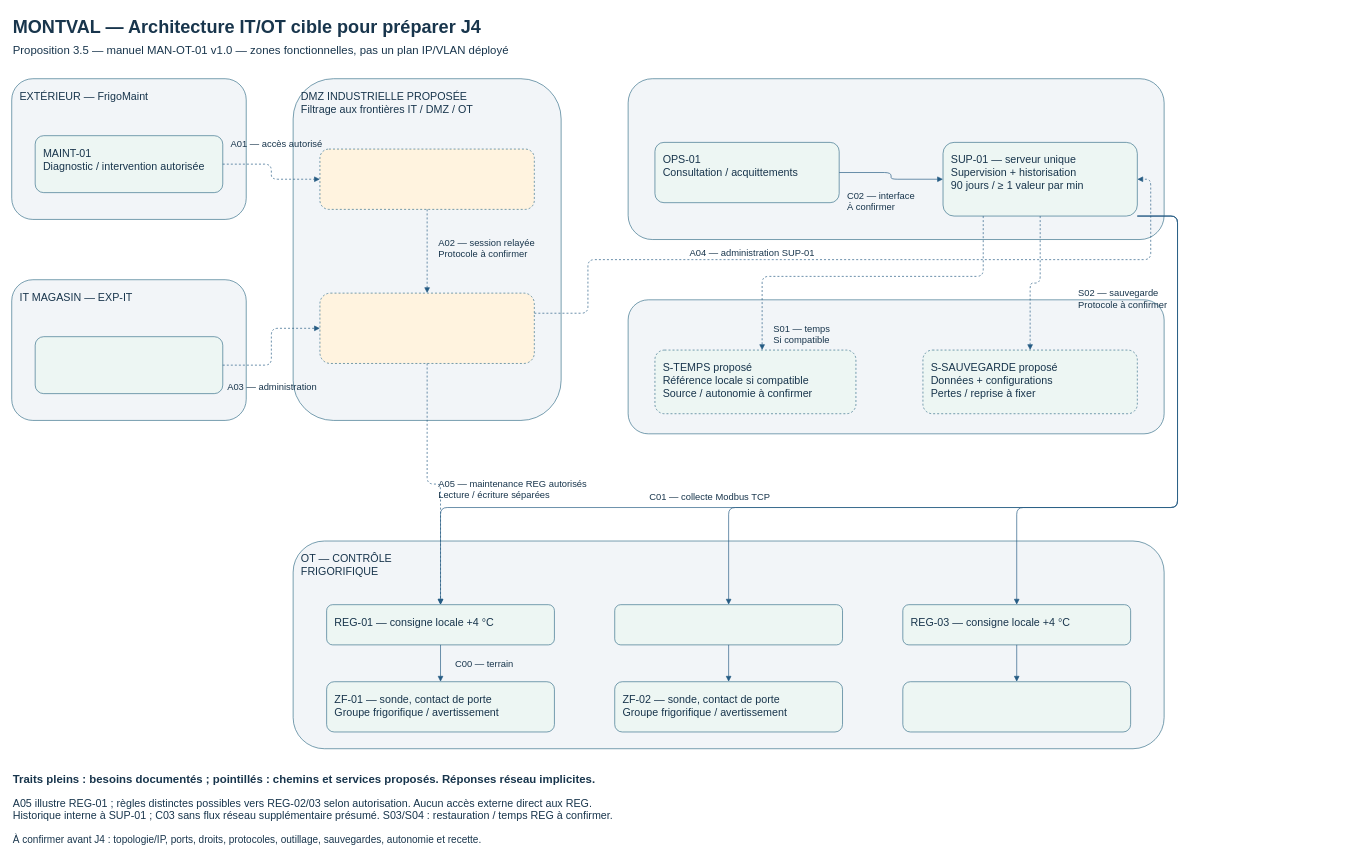
Image size: 1350x857. Some labels were removed from this diagram. The box of each missing label's shape, as (x1, y1, x2, y2) in pixels:
Administration IT Poste et dépendances à confirmer: (35, 336, 223, 394)
BASTION proposé Sessions et actions tracées Cibles autorisées seulement: (319, 292, 534, 363)
OT — SUPERVISION ET CONDUITE: (627, 78, 1164, 240)
Point d’accès distant sécurisé Identité / ouverture contrôlées: (319, 148, 534, 209)
REG-02 — consigne locale +4 °C: (614, 604, 843, 645)
SERVICES OT PROPOSÉS: (627, 299, 1164, 434)
ZF-03 — sonde, contact de porte Groupe frigorifique / avertissement: (902, 681, 1131, 732)
